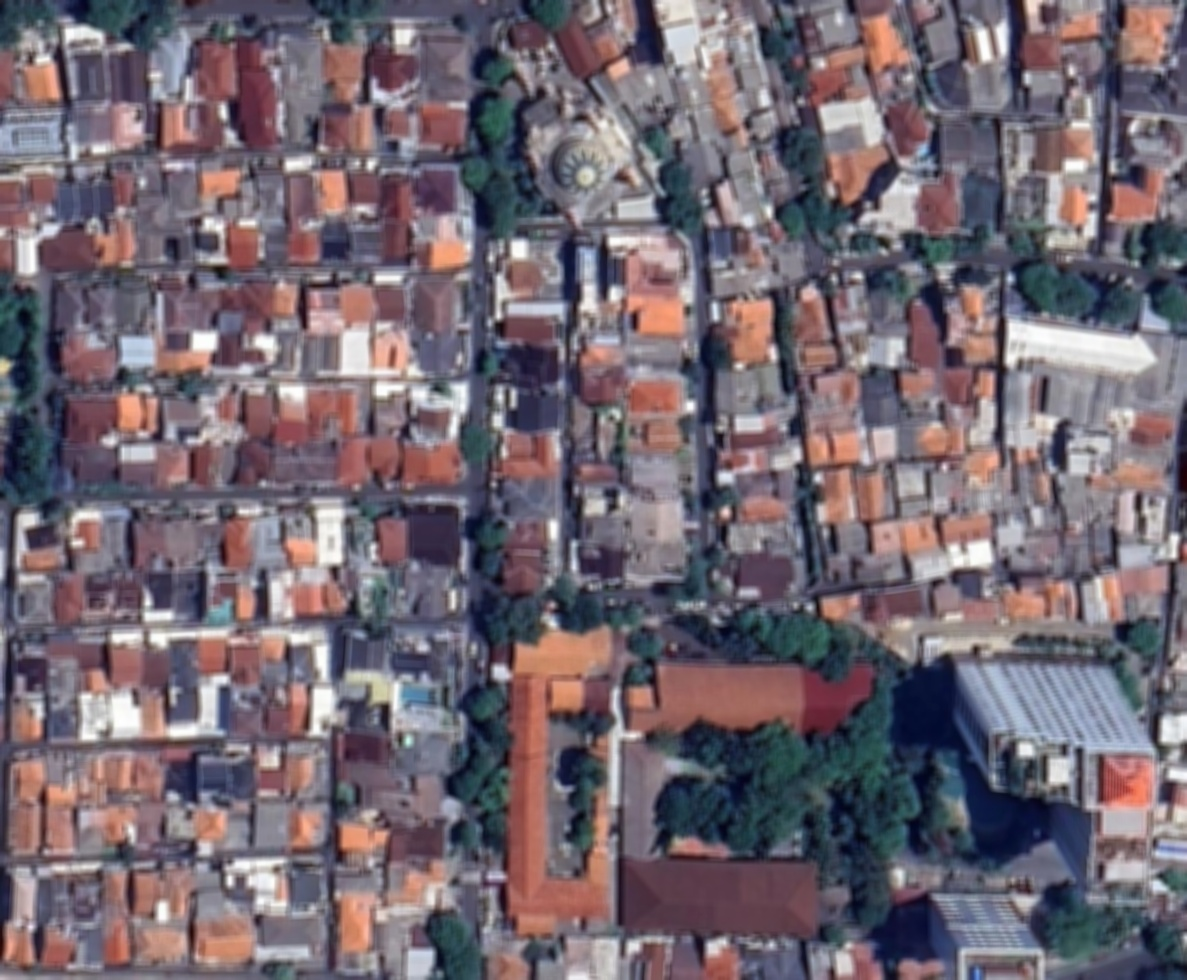building: (928, 594, 1187, 950), (509, 674, 613, 934), (620, 648, 885, 745), (500, 70, 655, 234), (632, 0, 768, 121), (623, 859, 820, 933), (999, 318, 1160, 384), (929, 893, 1044, 978), (851, 169, 962, 255), (794, 1, 874, 108), (330, 754, 450, 825), (989, 492, 1073, 579), (604, 42, 684, 127), (1020, 357, 1114, 428), (538, 125, 620, 206), (1111, 328, 1187, 415), (531, 169, 662, 219), (709, 360, 791, 435), (1116, 39, 1186, 121), (1046, 167, 1102, 264), (619, 739, 663, 857), (794, 362, 867, 433), (513, 624, 615, 674), (706, 292, 776, 364), (996, 165, 1055, 249), (815, 90, 887, 157), (826, 142, 898, 206), (497, 232, 564, 299), (823, 520, 885, 588), (1116, 0, 1177, 69), (547, 13, 605, 83), (718, 552, 804, 599), (831, 276, 873, 372), (626, 236, 692, 296), (134, 189, 187, 263), (415, 26, 476, 90), (936, 511, 1002, 570), (652, 0, 707, 69), (194, 908, 257, 968), (881, 94, 937, 161), (84, 282, 159, 332), (390, 564, 458, 619), (260, 915, 328, 969), (409, 213, 473, 270), (280, 60, 325, 141), (390, 632, 456, 687), (898, 510, 952, 577), (856, 10, 912, 74), (1116, 562, 1176, 621), (75, 505, 132, 567), (867, 286, 910, 368), (1120, 115, 1186, 168), (941, 285, 998, 346), (1107, 169, 1169, 225), (676, 130, 731, 193), (919, 58, 975, 119), (495, 340, 566, 388), (337, 887, 390, 950), (939, 116, 998, 172), (12, 506, 66, 567), (237, 69, 279, 147), (368, 38, 420, 101), (410, 383, 466, 441), (707, 251, 776, 298), (334, 817, 390, 874), (409, 506, 462, 566), (1061, 421, 1118, 476), (269, 440, 338, 485), (964, 54, 1014, 116), (502, 429, 564, 477), (728, 161, 771, 229), (812, 463, 859, 525), (401, 438, 465, 483), (64, 40, 109, 104), (62, 394, 121, 442), (323, 40, 368, 102), (723, 515, 796, 553), (625, 537, 691, 579), (961, 168, 1003, 234), (413, 98, 468, 148), (628, 493, 685, 541), (150, 33, 190, 101), (860, 582, 926, 623), (134, 923, 194, 968), (396, 728, 452, 776), (493, 389, 560, 429), (624, 452, 682, 498), (500, 476, 559, 521), (499, 301, 567, 340), (869, 515, 908, 582), (625, 293, 686, 335), (1087, 458, 1167, 490), (907, 299, 943, 370), (58, 333, 116, 377), (413, 162, 463, 213), (194, 39, 236, 98), (707, 175, 749, 234), (184, 857, 228, 912), (292, 681, 335, 737), (66, 105, 114, 155), (860, 366, 900, 426), (569, 540, 626, 582), (1001, 364, 1039, 427), (1021, 66, 1066, 119), (899, 369, 946, 419), (418, 329, 469, 375), (40, 227, 97, 268), (918, 15, 962, 68), (628, 376, 686, 416), (369, 326, 416, 375), (764, 237, 811, 286), (60, 443, 119, 482), (626, 336, 685, 375), (291, 626, 331, 683), (107, 46, 147, 103), (289, 794, 331, 848), (744, 941, 805, 978), (344, 630, 391, 678), (199, 158, 245, 207), (337, 725, 396, 763), (70, 502, 105, 565), (626, 416, 684, 454), (542, 667, 586, 717), (284, 37, 324, 92), (788, 293, 830, 345), (892, 460, 932, 514), (320, 564, 364, 613), (584, 66, 628, 115), (195, 797, 232, 855), (942, 401, 981, 456), (221, 278, 272, 319), (856, 464, 893, 520), (7, 802, 46, 855), (253, 160, 288, 219), (163, 303, 206, 351), (108, 630, 144, 687), (833, 939, 883, 980), (822, 169, 880, 204), (45, 634, 79, 693), (286, 158, 320, 216), (50, 284, 90, 333), (619, 938, 669, 977), (9, 642, 45, 696), (252, 800, 290, 851), (129, 863, 167, 914), (21, 57, 63, 103), (1060, 36, 1106, 78), (1002, 577, 1049, 618), (1058, 0, 1105, 41), (415, 276, 452, 328), (289, 740, 328, 789), (51, 569, 87, 622), (39, 924, 82, 968), (967, 467, 1010, 511), (132, 503, 164, 562), (14, 574, 51, 625), (165, 167, 202, 218), (931, 462, 968, 513), (484, 937, 530, 978), (379, 163, 412, 220), (99, 211, 133, 266), (79, 632, 109, 694), (205, 565, 240, 618), (253, 860, 290, 910), (579, 366, 626, 405), (193, 507, 226, 562), (251, 512, 285, 565), (1056, 467, 1087, 525), (143, 566, 176, 620), (194, 751, 231, 799), (273, 385, 307, 437), (349, 166, 383, 218), (502, 551, 547, 590), (224, 222, 263, 267), (374, 381, 407, 434), (165, 861, 198, 914), (314, 503, 344, 561), (306, 287, 342, 335), (160, 101, 196, 149), (233, 629, 266, 681), (308, 384, 340, 437), (271, 277, 303, 330), (1115, 539, 1168, 571), (161, 396, 205, 434), (131, 749, 165, 798), (794, 338, 843, 372), (163, 283, 200, 328), (135, 801, 167, 853), (1099, 572, 1130, 625), (714, 471, 777, 497), (232, 682, 264, 733), (102, 801, 136, 849), (290, 861, 326, 906), (202, 627, 232, 681), (167, 503, 194, 563), (222, 513, 253, 565), (112, 101, 147, 147), (902, 422, 948, 457), (168, 686, 200, 736), (266, 566, 296, 619), (73, 865, 103, 918), (224, 860, 257, 908), (242, 390, 277, 435), (265, 626, 293, 682), (77, 751, 106, 805), (38, 864, 67, 918), (238, 440, 272, 486), (665, 938, 705, 977), (169, 631, 199, 683), (86, 569, 116, 621), (1020, 33, 1062, 70), (296, 564, 327, 614), (155, 442, 190, 486), (195, 98, 225, 149), (165, 748, 196, 797), (283, 514, 314, 563), (197, 210, 228, 259), (338, 435, 371, 481), (259, 217, 292, 263), (374, 282, 411, 323), (11, 759, 47, 801), (820, 589, 863, 624), (289, 216, 321, 263), (43, 804, 74, 852), (201, 685, 230, 736), (340, 281, 376, 322), (10, 701, 46, 742), (109, 690, 139, 739), (706, 935, 741, 977), (350, 223, 384, 266), (9, 869, 36, 923), (79, 695, 110, 742), (1032, 127, 1063, 174), (238, 566, 266, 618), (103, 864, 131, 916), (49, 696, 79, 744), (319, 163, 349, 211), (728, 494, 788, 518), (532, 936, 566, 978), (726, 424, 783, 449), (1063, 120, 1096, 163), (320, 214, 350, 261), (378, 516, 410, 560), (317, 112, 354, 150), (718, 443, 770, 470), (962, 446, 1002, 481), (227, 755, 260, 797), (1063, 529, 1093, 575), (575, 515, 626, 542), (144, 631, 169, 686), (115, 568, 143, 617), (266, 684, 294, 733), (167, 801, 196, 848), (383, 213, 412, 260), (939, 368, 979, 402), (510, 15, 550, 49), (576, 341, 626, 368), (159, 348, 215, 372), (743, 105, 781, 140), (1022, 0, 1060, 35), (408, 823, 447, 857), (138, 689, 165, 738), (380, 100, 412, 141), (867, 422, 898, 464), (349, 101, 376, 149), (119, 335, 157, 369), (75, 808, 105, 851), (803, 938, 835, 978), (963, 25, 995, 65), (175, 566, 201, 615), (3, 924, 34, 965), (1098, 219, 1129, 260), (225, 801, 252, 848), (371, 436, 401, 478), (1142, 495, 1169, 541), (115, 389, 146, 429), (344, 327, 372, 371), (259, 748, 287, 792), (1110, 489, 1138, 533), (225, 177, 257, 215), (1045, 577, 1073, 620), (564, 936, 592, 978), (1083, 577, 1108, 624), (957, 0, 1004, 25), (716, 125, 751, 158), (296, 329, 320, 377), (195, 442, 220, 488), (709, 224, 737, 265), (960, 332, 994, 365), (591, 937, 619, 977), (79, 924, 105, 967), (215, 332, 245, 369), (724, 147, 757, 180), (736, 60, 768, 94), (666, 109, 697, 144), (690, 104, 718, 142), (104, 919, 129, 961), (831, 429, 861, 464), (1092, 523, 1117, 564), (18, 230, 40, 276), (338, 387, 359, 435), (113, 163, 137, 205), (805, 431, 833, 467), (762, 163, 790, 199), (273, 332, 296, 375), (105, 754, 132, 790), (1090, 484, 1117, 520), (960, 595, 1006, 616), (1005, 423, 1042, 449), (581, 676, 612, 707), (24, 171, 55, 202), (771, 467, 800, 500), (933, 581, 960, 616), (120, 464, 157, 488), (54, 180, 78, 217), (215, 307, 249, 333), (235, 36, 264, 66), (854, 0, 894, 21), (322, 329, 340, 374), (76, 181, 99, 216), (1, 48, 17, 98), (0, 173, 24, 205), (138, 158, 164, 187), (96, 179, 117, 214), (1066, 92, 1093, 119), (175, 230, 197, 262), (0, 205, 29, 228), (197, 282, 220, 311), (691, 169, 726, 188), (505, 433, 534, 455), (0, 230, 16, 269), (1014, 128, 1034, 159), (47, 786, 76, 805), (755, 85, 773, 109)
tree: (835, 749, 947, 867), (1005, 251, 1102, 326), (652, 767, 737, 845), (729, 779, 811, 859), (837, 682, 895, 794), (1038, 882, 1111, 965), (735, 605, 833, 663), (726, 718, 812, 784), (649, 158, 710, 240), (421, 905, 487, 980), (802, 806, 861, 888), (792, 719, 860, 790), (443, 738, 504, 804), (843, 858, 898, 929), (665, 553, 723, 615), (478, 594, 547, 646), (556, 749, 611, 814), (553, 572, 609, 635), (798, 177, 855, 235), (1131, 214, 1187, 270), (776, 123, 829, 181), (1093, 895, 1152, 947), (678, 716, 732, 771), (0, 461, 57, 509), (0, 0, 61, 44), (461, 675, 512, 725), (818, 624, 860, 683), (677, 604, 727, 653), (920, 756, 972, 803), (474, 92, 521, 144), (485, 174, 523, 238), (863, 259, 918, 301), (1120, 615, 1170, 659), (637, 119, 684, 165), (473, 43, 519, 88), (1112, 657, 1148, 711), (1095, 281, 1139, 325), (82, 0, 140, 32), (770, 194, 812, 237), (122, 12, 165, 54), (470, 511, 512, 553), (455, 152, 495, 194), (1142, 919, 1185, 958), (561, 706, 616, 736), (915, 794, 955, 835), (479, 763, 511, 813), (896, 738, 936, 777), (772, 304, 797, 366), (462, 419, 499, 460), (17, 406, 56, 444), (719, 625, 759, 662), (310, 1, 383, 21), (905, 233, 953, 263), (872, 649, 912, 684), (472, 543, 509, 580), (16, 347, 53, 384), (1150, 281, 1186, 319), (848, 630, 888, 663), (482, 807, 511, 851), (483, 709, 512, 752), (528, 0, 571, 29), (137, 0, 178, 30), (1155, 860, 1187, 898), (761, 24, 792, 63), (648, 726, 684, 759), (625, 630, 666, 658), (604, 601, 647, 627), (1122, 218, 1147, 261), (957, 260, 995, 288), (15, 437, 51, 466), (568, 810, 595, 848), (1006, 233, 1046, 258), (953, 232, 994, 256), (521, 191, 556, 219), (1090, 632, 1122, 661), (0, 319, 25, 356), (1137, 960, 1185, 978), (477, 346, 505, 376), (353, 495, 381, 523), (624, 658, 655, 682), (854, 836, 880, 864), (778, 60, 804, 87), (505, 150, 531, 177), (702, 341, 727, 369), (951, 824, 977, 850), (1015, 630, 1041, 656), (484, 143, 510, 169), (15, 379, 40, 406), (326, 19, 354, 43), (1, 288, 22, 320), (369, 579, 387, 615), (457, 819, 479, 848), (917, 838, 942, 863), (678, 412, 703, 437), (681, 492, 706, 516), (852, 233, 880, 254), (42, 497, 66, 520), (116, 842, 140, 865), (823, 923, 849, 944), (1070, 630, 1094, 652), (121, 368, 147, 388), (704, 547, 727, 569), (22, 290, 44, 313), (703, 490, 727, 511), (777, 11, 801, 32), (679, 361, 701, 383), (180, 373, 200, 396), (23, 315, 44, 335), (454, 741, 472, 763), (23, 333, 42, 353), (1037, 633, 1059, 650), (365, 614, 384, 633), (449, 14, 470, 31), (517, 171, 535, 190), (1055, 633, 1075, 650), (822, 277, 840, 295), (822, 237, 840, 255), (273, 964, 294, 979), (439, 383, 455, 399), (243, 14, 259, 30), (713, 576, 728, 590), (0, 270, 14, 284), (212, 22, 226, 35), (32, 309, 45, 323), (814, 489, 826, 503)
